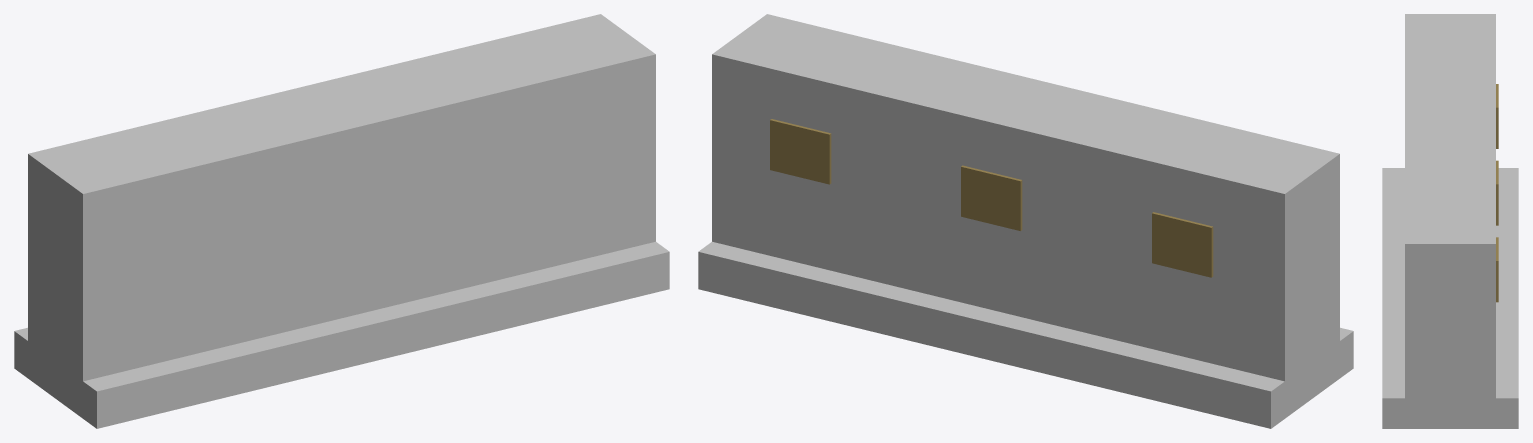
Rendered from concrete_barrier.gltf.
The picture shows the model from 3 angles, left to right: view 1: azimuth 30°, elevation 25°; view 2: azimuth 150°, elevation 25°; view 3: azimuth 270°, elevation 25°; orthographic projection. The views are drawn at different scales.
Visible parts, largest first — view 1: body, base; view 2: body, base, reflector (×3); view 3: body, base, reflector (×3).
Part boxes in pixels (bbox=[...]): body: bbox=[28, 14, 655, 381]; base: bbox=[14, 241, 669, 428]; body: bbox=[712, 14, 1339, 381]; base: bbox=[698, 241, 1353, 428]; reflector (×3): bbox=[770, 119, 1213, 277]; body: bbox=[1405, 14, 1495, 398]; base: bbox=[1382, 168, 1518, 428]; reflector (×3): bbox=[1496, 84, 1498, 302].
Bounding box in the file's own units: 3 × 1.12 × 0.75.
